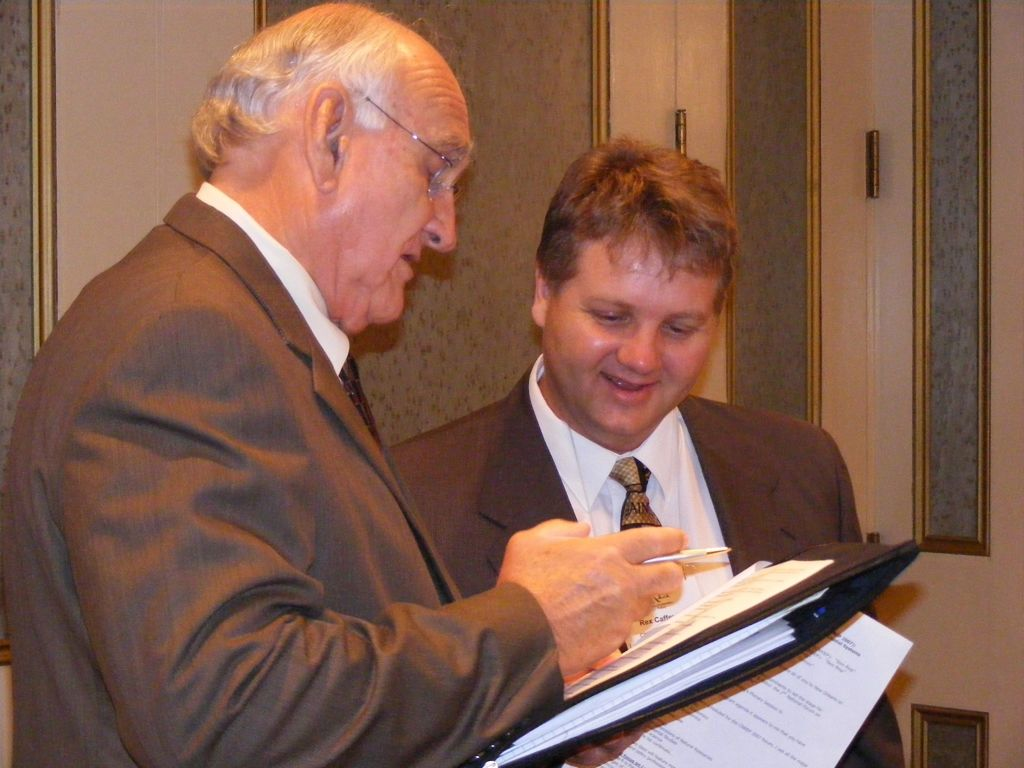Person: (8, 0, 687, 767), (381, 135, 907, 766)
